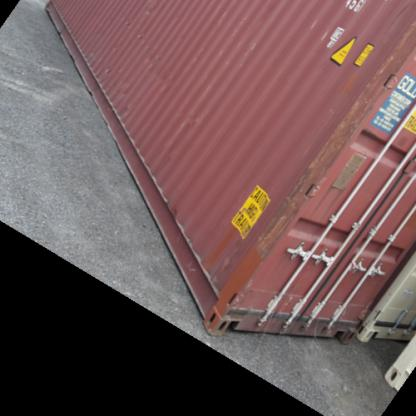Damage: (244, 136, 338, 254), (332, 34, 408, 152)
